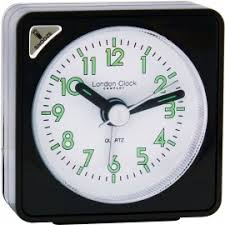alarm_clock: (1, 0, 223, 221)
